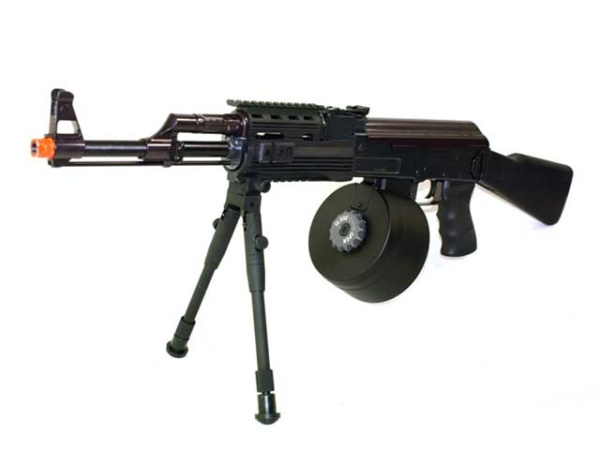ak47: (30, 89, 573, 301)
